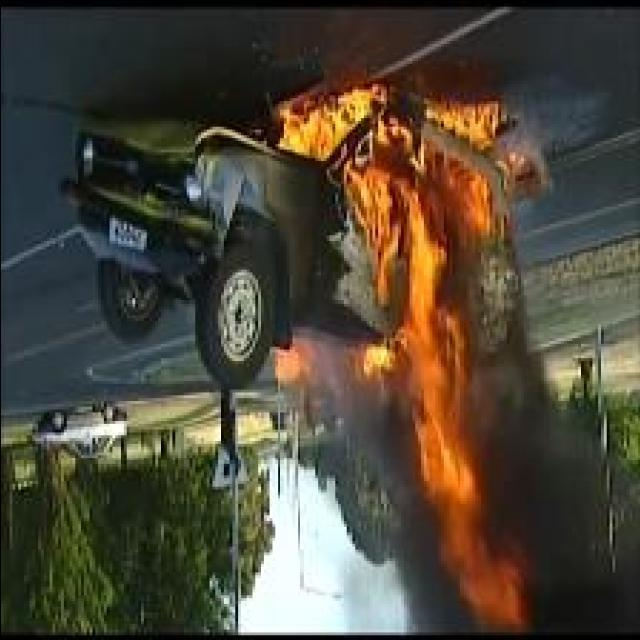Fire: (274, 82, 526, 628), (272, 342, 298, 384)
